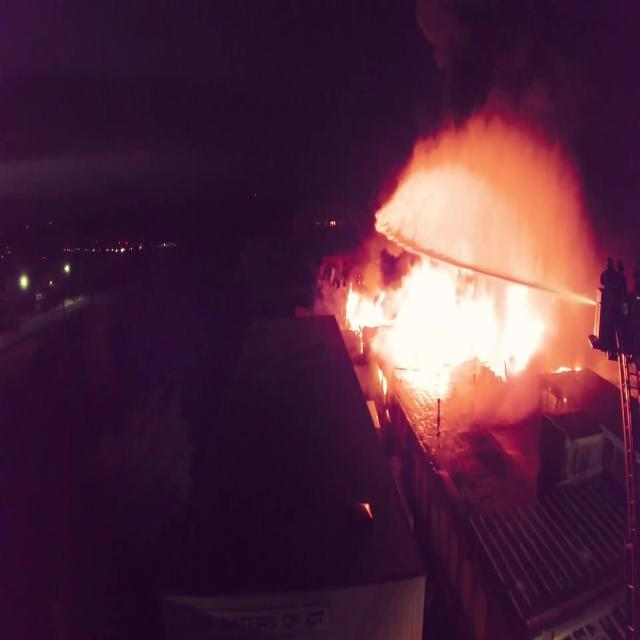Fire: (355, 256, 562, 381)
Smoke: (397, 12, 602, 302)
